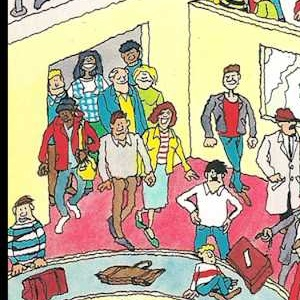Wenda: (49, 130, 75, 170)
